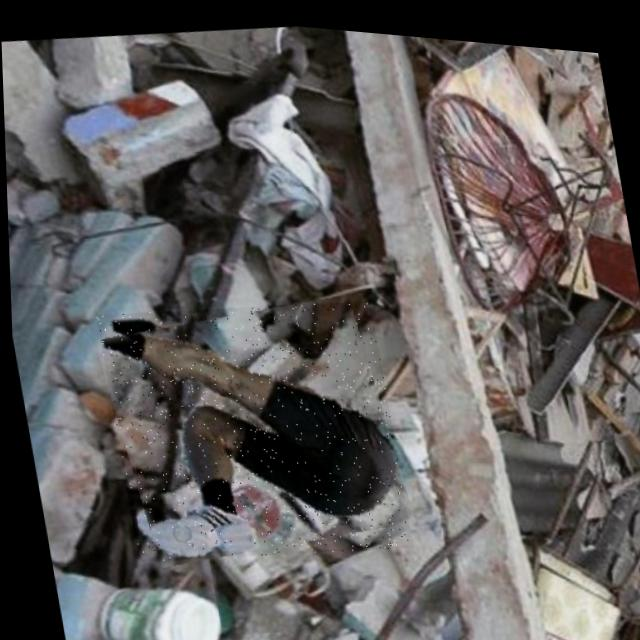Person in Rubble: (92, 275, 410, 579)
